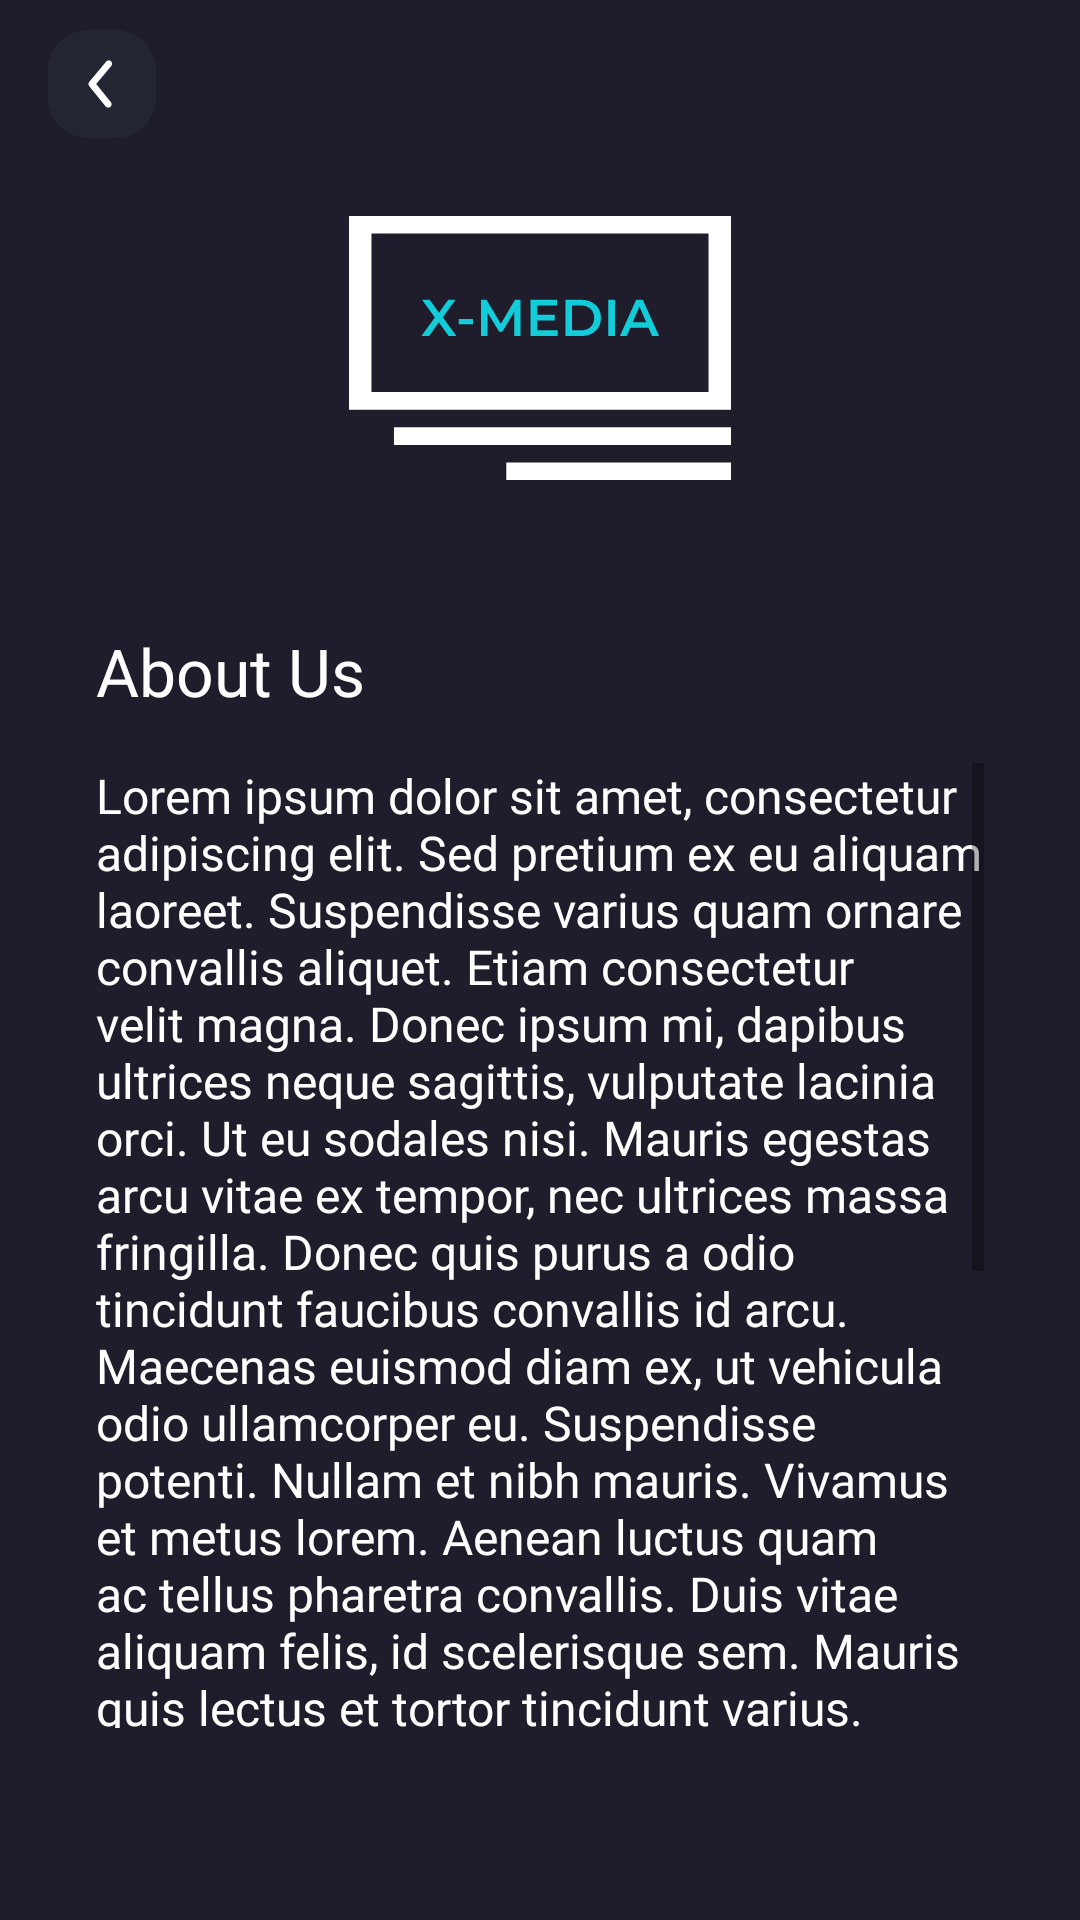

Where to tap for icons on this 1080px×1920px app screen, as point (x, y):
Back icon: point (100, 84)
